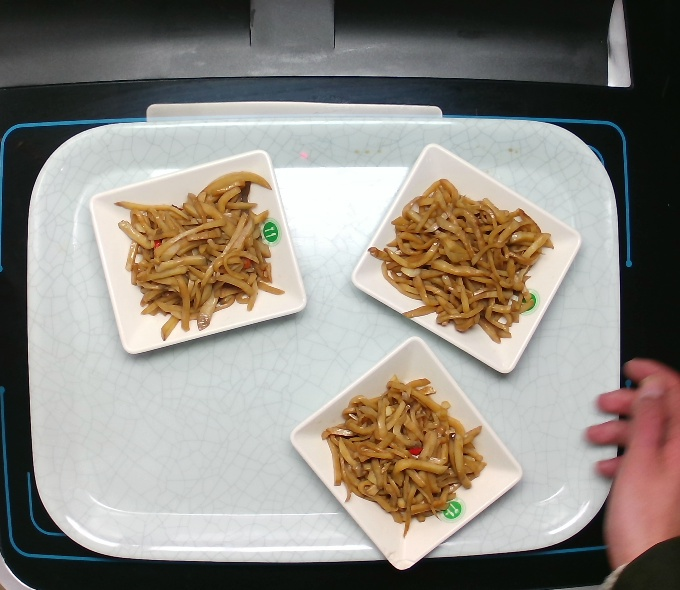wcq-LiangBanMoGu: (364, 175, 555, 347), (111, 168, 289, 343), (319, 372, 487, 539)
